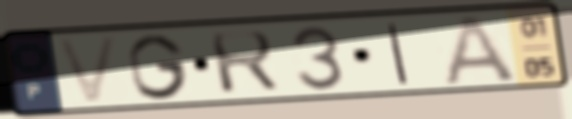3: (287, 23, 349, 93)
A: (440, 12, 522, 88)
G: (124, 31, 193, 102)
I: (384, 21, 412, 87)
R: (205, 28, 283, 96)
V: (51, 32, 124, 107)
